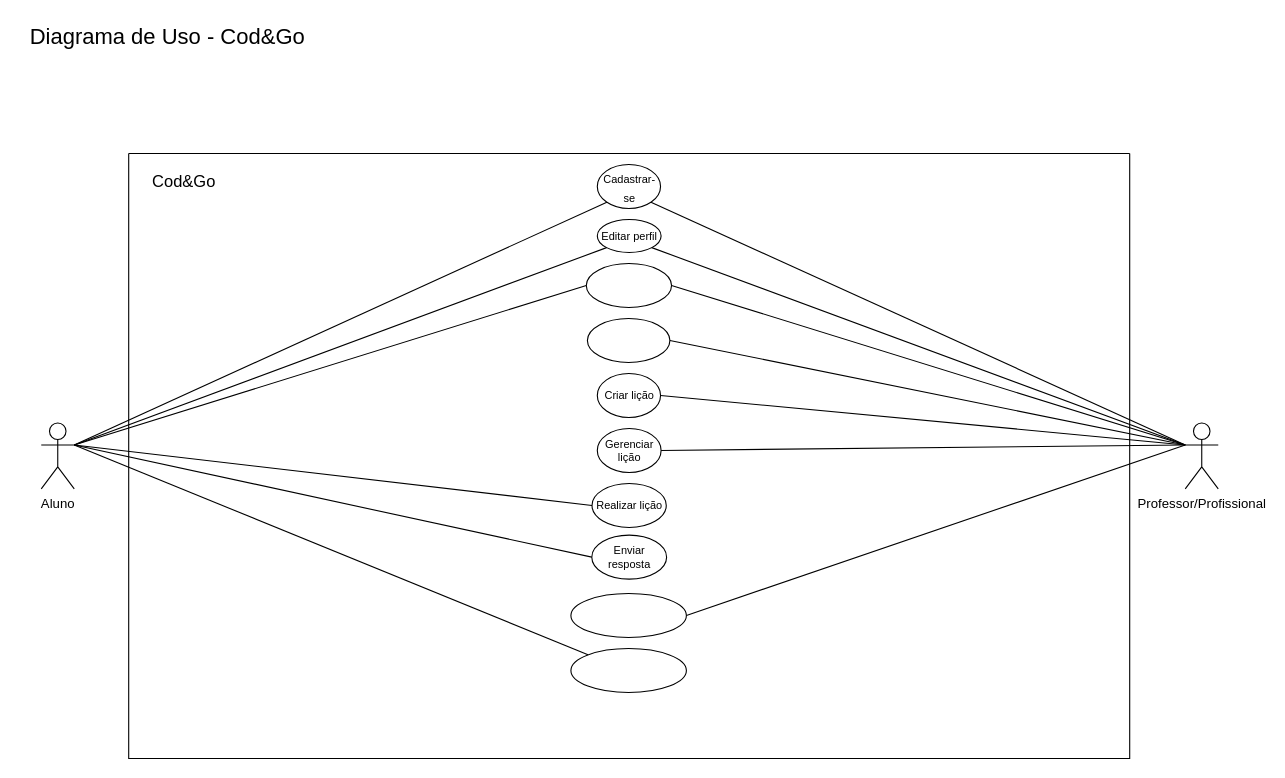
Some shapes in this 1285 by 778 pixel diagram are drawn without their labels. Each missing label, with the centre of its shape:
"Consultar progresso" goes at pixel 628 669.
"Escolher linguagen(s)" goes at pixel 628 284.
"Gerenciar linguagens" goes at pixel 628 339.
"Gerenciar progresso do aluno" goes at pixel 628 614.
